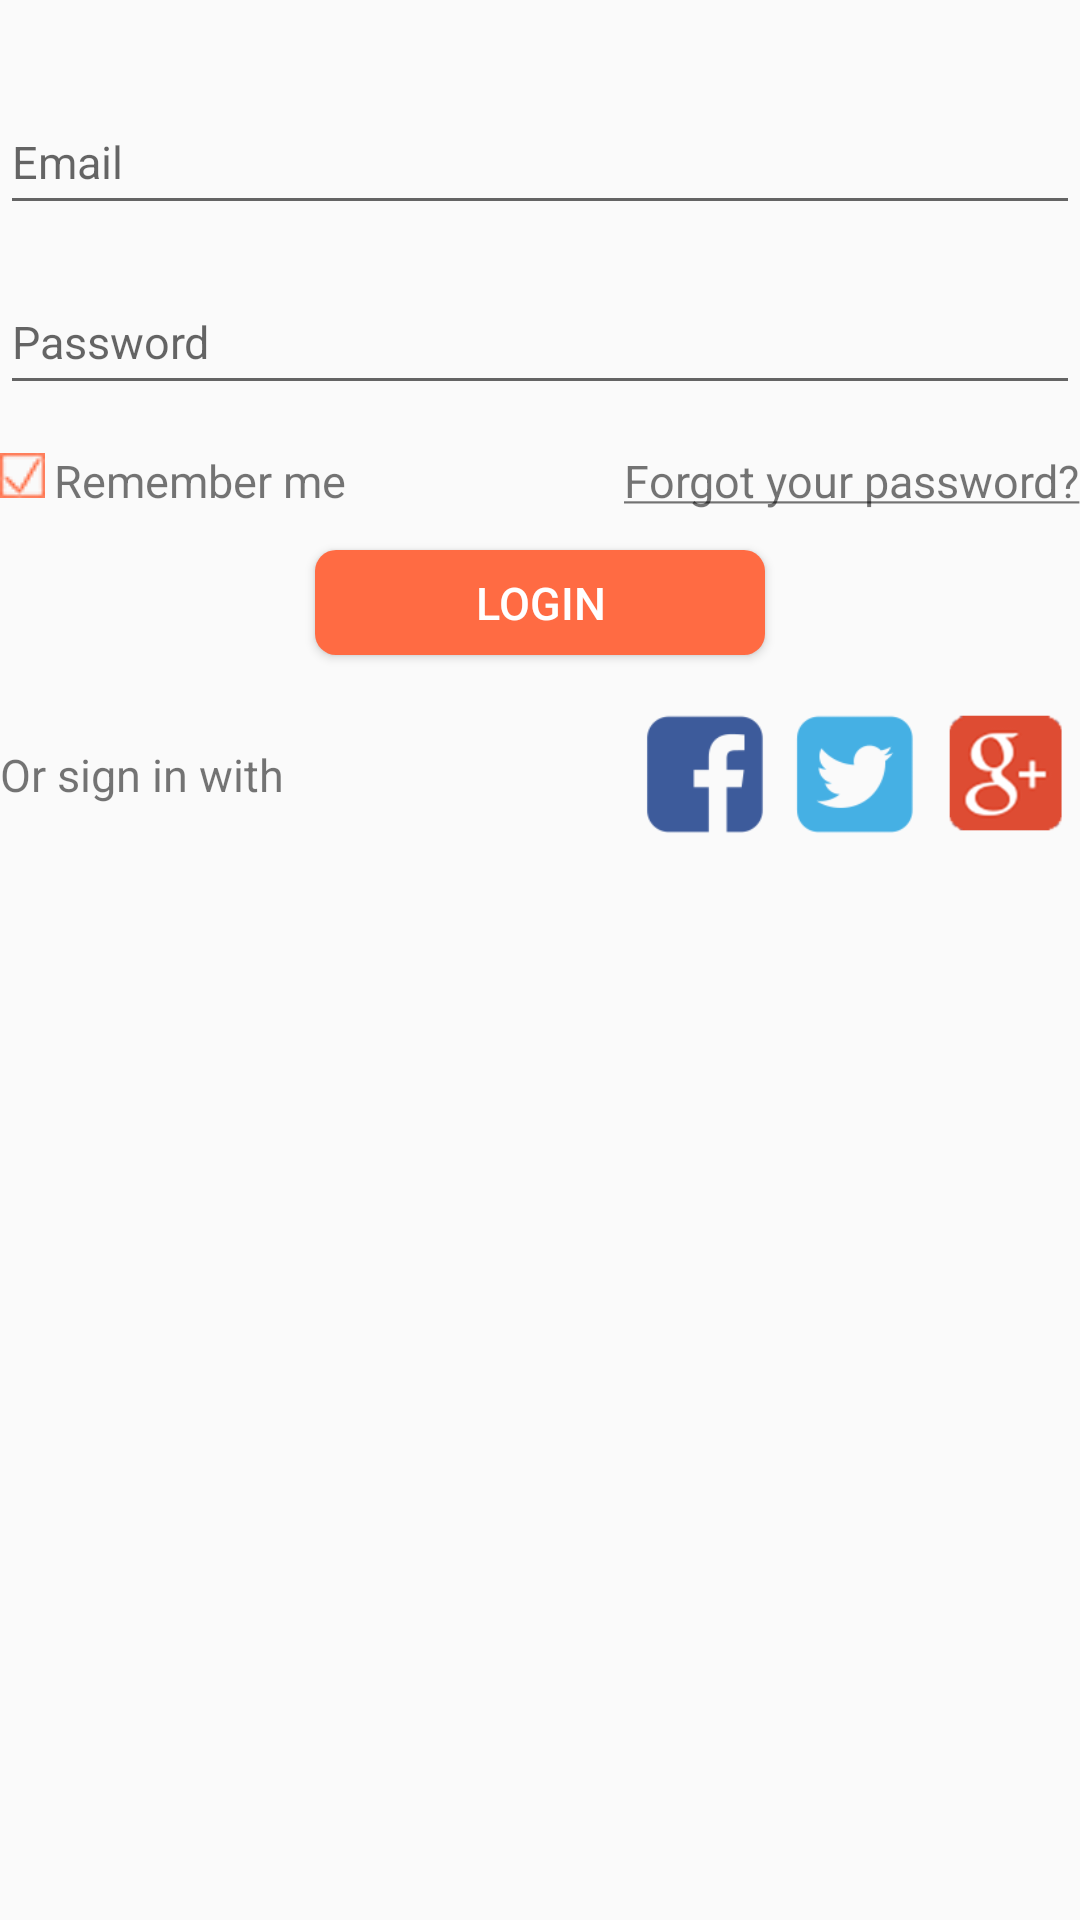

Icon bounding boxes for this 1080px×1920px phone screenshot, format box=[x1, y1, x2, y2]:
checkbox: box=[0, 453, 45, 498]
